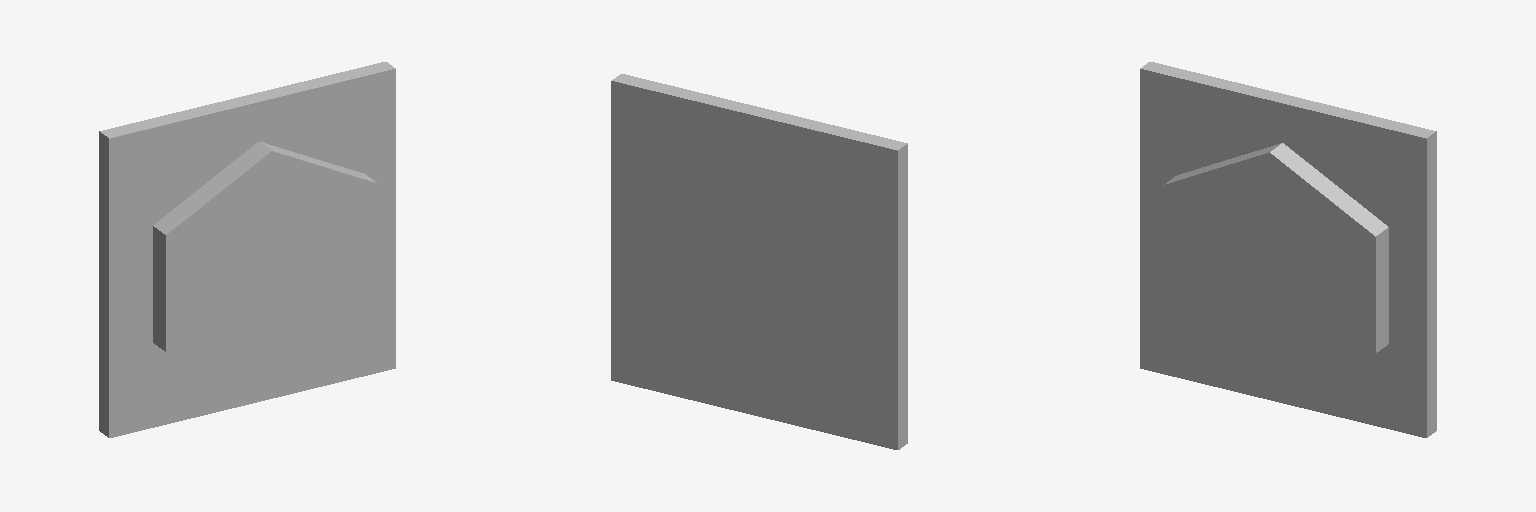
File: tinker.obj
3 views of the same model, side by side, from view 1: azimuth 30°, elevation 25°; view 2: azimuth 150°, elevation 25°; view 3: azimuth 330°, elevation 25° (orthographic).
Visible parts, largest first — view 1: obj_0; view 2: obj_0; view 3: obj_0.
Part boxes in pixels (bbox=[...]): obj_0: bbox=[99, 62, 395, 437]; obj_0: bbox=[611, 74, 907, 449]; obj_0: bbox=[1140, 62, 1436, 437].
Bounding box in the file's own units: 50 × 50 × 8.